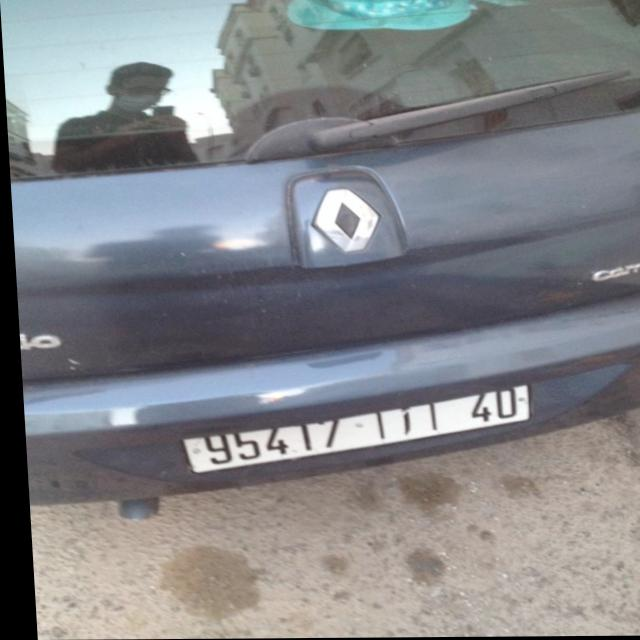License-Plate: (177, 386, 525, 473)
